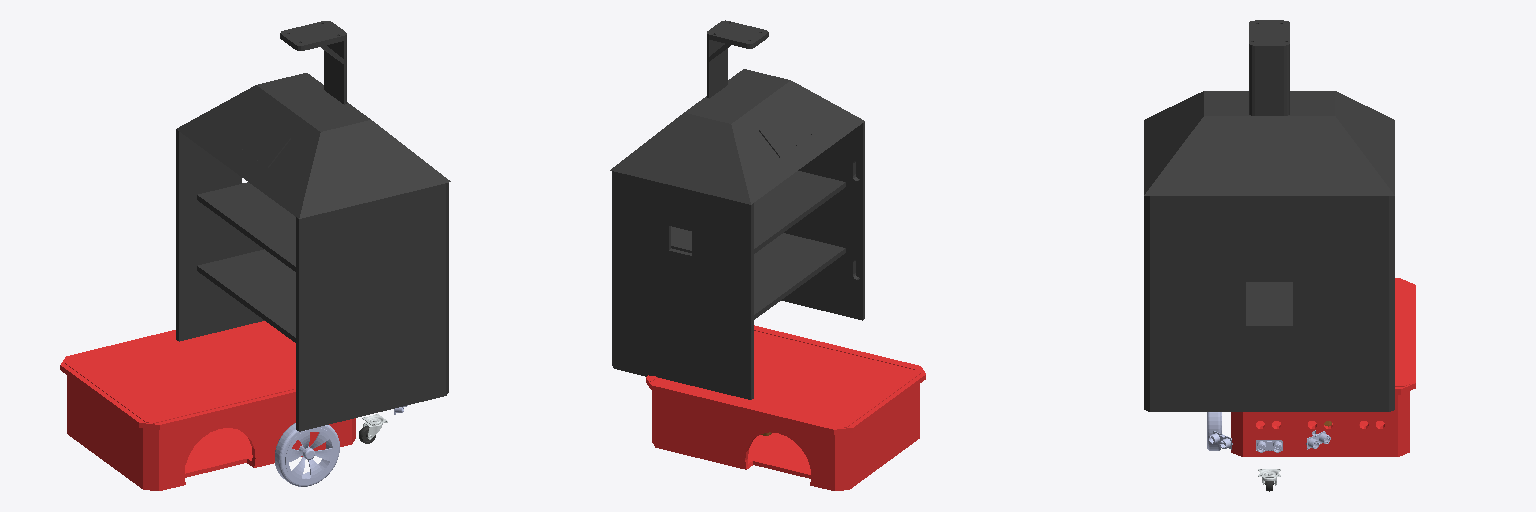
robot.urdf — motar_mini:
<?xml version="1.0" encoding="utf-8"?>
<!-- This URDF was automatically created by SolidWorks to URDF Exporter! Originally created by [author] ([email redacted]) 
     Commit Version: 1.5.1-0-g916b5db  Build Version: 1.5.7152.31018
     For more information, please see http://wiki.ros.org/sw_urdf_exporter -->
<robot name="motar_mini">

<!-- Base_link(Kasa) -->

  <link name="base_link">
    <inertial>
      <origin xyz="0.0011012 -5.6563E-08 0.10842" rpy="0 0 0" />
      <mass value="5" />
      <inertia ixx="0.0075955" ixy="1.9776E-09" ixz="0.00023235"
       iyy="0.012493" iyz="-4.394E-10" izz="0.014889" />
    </inertial>
    <visual>
      <origin xyz="0 0 0" rpy="0 0 0" />
      <geometry>
        <mesh filename="package://motar_mini/meshes/base_link.STL" />
      </geometry>
      <material name="">
        <color rgba="0.96863 0.25882 0.25882 1" />
      </material>
    </visual>
    <collision>
      <origin xyz="0 0 0" rpy="0 0 0" />
      <geometry>
        <mesh filename="package://motar_mini/meshes/base_link.STL" />
      </geometry>
    </collision>
  </link>

<!-- SWIWEL WHEEL -->

<!-- Swivel Wheel Base-->
  <link name="SWheelbase">
    <inertial>
      <origin xyz="2.7426E-09 -1.1481E-10 -0.0016836" rpy="0 0 0" />
      <mass  value="0.5" />
      <inertia
        ixx="1.4785E-07"
        ixy="-3.9067E-21"
        ixz="6.2429E-15"
        iyy="1.3208E-07"
        iyz="4.1764E-18"
        izz="2.6366E-07" />
    </inertial>
    <visual>
      <origin xyz="0 0 0" rpy="0 0 0" />
      <geometry>
        <mesh filename="package://motar_mini/meshes/SWheelbase.STL" />
      </geometry>
      <material name="">
        <color rgba="0.89804 0.92157 0.92941 1" />
      </material>
    </visual>
    <collision>
      <origin xyz="0 0 0" rpy="0 0 0" />
      <geometry>
        <mesh filename="package://motar_mini/meshes/SWheelbase.STL" />
      </geometry>
    </collision>
  </link>
  <joint  name="SWhBase" type="fixed">
    <origin xyz="0.272999999872566 -0.0849999999212055 0.039802668970508" rpy="0 0 0" />
    <parent link="base_link" />
    <child link="SWheelbase" />
    <axis xyz="0 0 0" />
  </joint>
<!-- Swivel Wheel Dir-->
  <link name="SWhDir">
    <inertial>
      <origin xyz="-0.0088807 0.00045181 -0.0021842" rpy="0 0 0" />
      <mass value="0.5" />
      <inertia
        ixx="2.928E-07"
        ixy="9.276E-09"
        ixz="-9.191E-08"
        iyy="2.9964E-07"
        iyz="1.1937E-08"
        izz="3.2424E-07" />
    </inertial>
    <visual>
      <origin xyz="0 0 0" rpy="0 0 0" />
      <geometry>
        <mesh filename="package://motar_mini/meshes/SWhDir.STL" />
      </geometry>
      <material name="">
        <color rgba="0.89804 0.92157 0.92941 1" />
      </material>
    </visual>
    <collision>
      <origin xyz="0 0 0" rpy="0 0 0" />
      <geometry>
        <mesh filename="package://motar_mini/meshes/SWhDir.STL" />
      </geometry>
    </collision>
  </link>
  <joint name="SWhD" type="continuous">
    <origin xyz="0.00221976872885976 0 -0.0104225951353673" rpy="0 0 0" />
    <parent link="SWheelbase" />
    <child link="SWhDir" />
    <axis xyz="0 0 -1" />
  </joint>
<!-- Swivel Wheel-->
  <link name="SWheel">
    <inertial>
      <origin xyz="1.2147E-06 1.96E-07 8.0438E-07" rpy="0 0 0" />
      <mass value="0.5" />
      <inertia ixx="4.3731E-07" ixy="-4.6068E-10" ixz="-4.0444E-11"
        iyy="7.3808E-07" iyz="-7.0587E-12" izz="4.3734E-07" />
    </inertial>
    <visual>
      <origin xyz="0 0 0" rpy="0 0 0" />
      <geometry>
        <mesh filename="package://motar_mini/meshes/SWheel.STL" />
      </geometry>
      <material name="">
        <color rgba="0.29412 0.29412 0.29412 1" />
      </material>
    </visual>
    <collision>
      <origin xyz="0 0 0" rpy="0 0 0" />
      <geometry>
        <mesh filename="package://motar_mini/meshes/SWheel.STL" />
      </geometry>
    </collision>
  </link>
  <joint name="SWh" type="continuous">
    <origin  xyz="-0.0177197511672673 -2.65387885129836E-05 -0.0136774048347897" rpy="0 0 0" />
    <parent link="SWhDir" />
    <child  link="SWheel" />
    <axis xyz="0.00149757402447565 -0.999998878635392 0" />
  </joint>

<!-- Left Wheel-->

  <link name="leftWheel">
    <inertial>
      <origin  xyz="-1.7347E-18 -0.0092827 5.5511E-17" rpy="0 0 0" />
      <mass value="1" />
      <inertia
        ixx="0.00016712"
        ixy="-3.0213E-21"
        ixz="1.3911E-17"
        iyy="0.00032266"
        iyz="-9.8863E-21"
        izz="0.00016712" />
    </inertial>
    <visual>
      <origin xyz="0 0 0" rpy="0 0 0" />
      <geometry>
        <mesh filename="package://motar_mini/meshes/leftWheel.STL" />
      </geometry>
      <material name="">
        <color rgba="0.63922 0.4 0.21176 1" />
      </material>
    </visual>
    <collision>
      <origin xyz="0 0 0" rpy="0 0 0" />
      <geometry>
        <mesh filename="package://motar_mini/meshes/leftWheel.STL" />
      </geometry>
    </collision>
  </link>
  <joint name="LWheel" type="continuous">
    <origin xyz="0.0858451267270673 0.0181457276792751 0.060002668970508" rpy="0 0 0" />
    <parent link="base_link" />
    <child link="leftWheel" />
    <axis xyz="0 1 0" />
  </joint>

<!-- Right Wheel-->

  <link name="rightWheel">
    <inertial>
      <origin xyz="1.0408E-17 0.0090244 0" rpy="0 0 0" />
      <mass value="1" />
      <inertia
        ixx="0.00016712"
        ixy="2.3086E-21"
        ixz="1.4729E-18"
        iyy="0.00032266"
        iyz="-1.8672E-21"
        izz="0.00016712" />
    </inertial>
    <visual>
      <origin xyz="0 0 0" rpy="0 0 0" />
      <geometry>
        <mesh filename="package://motar_mini/meshes/rightWheel.STL" />
      </geometry>
      <material name="">
        <color rgba="0.79216 0.81961 0.93333 1" />
      </material>
    </visual>
    <collision>
      <origin xyz="0 0 0" rpy="0 0 0" />
      <geometry>
        <mesh filename="package://motar_mini/meshes/rightWheel.STL" />
      </geometry>
    </collision>
  </link>
  <joint name="RWheel" type="continuous">
    <origin xyz="0.0858451267270673 -0.187145727679275 0.060002668970508" rpy="0 0 0" />
    <parent link="base_link" />
    <child link="rightWheel" />
    <axis xyz="0 1 0" />
  </joint>

<!-- Dolap-->

  <link name="Dolap">
    <inertial>
      <origin xyz="-0.0038285 0.0010421 0.23126" rpy="0 0 0" />
      <mass value="10" />
      <inertia
        ixx="0.04108"
        ixy="8.4741E-06"
        ixz="-0.00024734"
        iyy="0.051851"
        iyz="-0.0004415"
        izz="0.037286" />
    </inertial>
    <visual>
      <origin xyz="0 0 0" rpy="0 0 0" />
      <geometry>
        <mesh filename="package://motar_mini/meshes/Dolap.STL" />
      </geometry>
      <material name="">
        <color rgba="0.29804 0.29804 0.29804 1" />
      </material>
    </visual>
    <collision>
      <origin xyz="0 0 0" rpy="0 0 0" />
      <geometry>
        <mesh filename="package://motar_mini/meshes/Dolap.STL" />
      </geometry>
    </collision>
  </link>
  <joint name="Dolap" type="fixed">
    <origin xyz="0.152 -0.085 0.166002668970508" rpy="0 0 0" />
    <parent link="base_link" />
    <child link="Dolap" />
    <axis xyz="0 0 0" />
  </joint>
  
<!-- Sonar Left-->

  <link name="SL">
    <inertial>
      <origin xyz="-0.11671 0.11418 -4.9387E-05" rpy="0 0 0" />
      <mass value="2" />
      <inertia
        ixx="1.74E-07"
        ixy="-3.9565E-10"
        ixz="-1.6556E-09"
        iyy="9.3681E-07"
        iyz="2.8113E-09"
        izz="8.8636E-07" />
    </inertial>
    <visual>
      <origin xyz="0 0 0" rpy="0 0 0" />
      <geometry>
        <mesh filename="package://motar_mini/meshes/SL.STL" />
      </geometry>
      <material name="">
        <color rgba="0.79216 0.81961 0.93333 1" />
      </material>
    </visual>
    <collision>
      <origin xyz="0 0 0" rpy="0 0 0" />
      <geometry>
        <mesh filename="package://motar_mini/meshes/SL.STL" />
      </geometry>
    </collision>
  </link>
  <joint name="SL" type="fixed">
    <origin xyz="0.276499221592938 -0.167500778407062 0.101002668970508" rpy="0 0 -0.785398163397448" />
    <parent link="base_link" />
    <child link="SL" />
    <axis xyz="0 0 0" />
  </joint>

<!-- Sonar Front-->

  <link name="SF">
    <inertial>
      <origin xyz="-0.0024954 -1.8887E-05 4.9385E-05" rpy="0 0 0" />
      <mass value="2" />
      <inertia
        ixx="9.3681E-07"
        ixy="-3.9566E-10"
        ixz="-2.8114E-09"
        iyy="1.74E-07"
        iyz="1.6556E-09"
        izz="8.8636E-07" />
    </inertial>
    <visual>
      <origin xyz="0 0 0" rpy="0 0 0" />
      <geometry>
        <mesh filename="package://motar_mini/meshes/SF.STL" />
      </geometry>
      <material name="">
        <color rgba="0.79216 0.81961 0.93333 1" />
      </material>
    </visual>
    <collision>
      <origin xyz="0 0 0" rpy="0 0 0" />
      <geometry>
        <mesh filename="package://motar_mini/meshes/SF.STL" />
      </geometry>
    </collision>
  </link>
  <joint name="SF" type="fixed">
    <origin xyz="0.299 -0.085 0.101002668970508" rpy="0 0 0" />
    <parent link="base_link" />
    <child link="SF" />
    <axis xyz="0 0 0" />
  </joint>

<!-- Sonar Right-->

  <link name="SR">
    <inertial>
      <origin xyz="-0.11667 -0.11418 4.9387E-05" rpy="0 0 0" />
      <mass value="2" />
      <inertia
        ixx="1.74E-07"
        ixy="3.9565E-10"
        ixz="1.6556E-09"
        iyy="9.3681E-07"
        iyz="2.8113E-09"
        izz="8.8636E-07" />
    </inertial>
    <visual>
      <origin xyz="0 0 0" rpy="0 0 0" />
      <geometry>
        <mesh filename="package://motar_mini/meshes/SR.STL" />
      </geometry>
      <material name="">
        <color rgba="0.79216 0.81961 0.93333 1" />
      </material>
    </visual>
    <collision>
      <origin xyz="0 0 0" rpy="0 0 0" />
      <geometry>
        <mesh filename="package://motar_mini/meshes/SR.STL" />
      </geometry>
    </collision>
  </link>
  <joint name="SR" type="fixed">
    <origin xyz="0.2765 -0.0025008 0.101" rpy="0 0 0.7854" />
    <parent link="base_link" />
    <child link="SR" />
    <axis xyz="0 0 0" />
  </joint>

<!-- Ultrasonic Sonar Sensors Gazebo Ref. -->
	<gazebo reference="SL">
		<material>Gazebo/Green</material>
		<sensor type="ray" name="SL">
		  <pose>0 0 0 0 0 0</pose>
		  <update_rate>5</update_rate>
		  <ray>
		    <scan>
		      <horizontal>
		        <samples>5</samples>
		        <resolution>1.0</resolution>
		        <min_angle>-0.3</min_angle>
		        <max_angle>0.3</max_angle>
		      </horizontal>
		      <vertical>
		        <samples>5</samples>
		        <resolution>1</resolution>
		        <min_angle>-0.3</min_angle>
		        <max_angle>0.3</max_angle>
		      </vertical>
		    </scan>
		    <range>
		      <min>0.01</min>
		      <max>0.9</max>
		      <resolution>0.01</resolution>
		    </range>
		  </ray>
		  <plugin filename="libgazebo_ros_range.so" name="gazebo_ros_range">
		    <gaussianNoise>0.005</gaussianNoise>
		    <alwaysOn>true</alwaysOn>
		    <updateRate>5</updateRate>
		    <topicName>SL</topicName>
		    <frameName>SL</frameName>
		    <fov>0.7</fov>
		    <radiation>ultrasound</radiation>
		  </plugin>
		</sensor>
	</gazebo>

	<gazebo reference="SF">
		<material>Gazebo/Green</material>
		<sensor type="ray" name="SF">
		  <pose>0 0 0 0 0 0</pose>
		  <update_rate>5</update_rate>
		  <ray>
		    <scan>
		      <horizontal>
		        <samples>5</samples>
		        <resolution>1.0</resolution>
		        <min_angle>-0.3</min_angle>
		        <max_angle>0.3</max_angle>
		      </horizontal>
		      <vertical>
		        <samples>5</samples>
		        <resolution>1</resolution>
		        <min_angle>-0.3</min_angle>
		        <max_angle>0.3</max_angle>
		      </vertical>
		    </scan>
		    <range>
		      <min>0.01</min>
		      <max>0.9</max>
		      <resolution>0.01</resolution>
		    </range>
		  </ray>
		  <plugin filename="libgazebo_ros_range.so" name="gazebo_ros_range">
		    <gaussianNoise>0.005</gaussianNoise>
		    <alwaysOn>true</alwaysOn>
		    <updateRate>5</updateRate>
		    <topicName>SF</topicName>
		    <frameName>SF</frameName>
		    <fov>0.7</fov>
		    <radiation>ultrasound</radiation>
		  </plugin>
		</sensor>
	</gazebo>

	<gazebo reference="SR">
		<material>Gazebo/Green</material>
		<sensor type="ray" name="SR">
		  <pose>0 0 0 0 0 0</pose>
		  <update_rate>5</update_rate>
		  <ray>
		    <scan>
		      <horizontal>
		        <samples>5</samples>
		        <resolution>1.0</resolution>
		        <min_angle>-0.3</min_angle>
		        <max_angle>0.3</max_angle>
		      </horizontal>
		      <vertical>
		        <samples>5</samples>
		        <resolution>1</resolution>
		        <min_angle>-0.3</min_angle>
		        <max_angle>0.3</max_angle>
		      </vertical>
		    </scan>
		    <range>
		      <min>0.01</min>
		      <max>0.9</max>
		      <resolution>0.01</resolution>
		    </range>
		  </ray>
		  <plugin filename="libgazebo_ros_range.so" name="gazebo_ros_range">
		    <gaussianNoise>0.005</gaussianNoise>
		    <alwaysOn>true</alwaysOn>
		    <updateRate>5</updateRate>
		    <topicName>SR</topicName>
		    <frameName>SR</frameName>
		    <fov>0.7</fov>
		    <radiation>ultrasound</radiation>
		  </plugin>
		</sensor>
	</gazebo>

<!-- Lidar Sensor -->

<link name="hokuyo_link">
    <inertial>
      <origin xyz="9.1926E-05 0.0067665 -0.0073819" rpy="0 0 0" />
      <mass value="0.5" />
      <inertia
        ixx="0.0009607"
        ixy="8.0198E-07"
        ixz="3.0916E-06"
        iyy="0.00061492"
        iyz="0.00015824"
        izz="0.0010982" />
    </inertial>
    <visual>
      <origin xyz="0 0 0" rpy="0 0 0" />
      <geometry>
        <mesh filename="package://motar_mini/meshes/lidar.STL" />
      </geometry>
      <material name="">
        <color rgba="0.79216 0.81961 0.93333 1" />
      </material>
    </visual>
    <collision>
      <origin xyz="0 0 0" rpy="0 0 0" />
      <geometry>
        <mesh filename="package://motar_mini/meshes/lidar.STL" />
      </geometry>
    </collision>
  </link>
  <joint name="hokuyo_joint" type="fixed">
    <origin xyz="0.145705213844625 -0.0898024549047488 0.618652668970508" rpy="0 0 0" />
    <parent link="base_link" />
    <child link="hokuyo_link" />
    <axis xyz="0 0 0" />
  </joint>
<!--
  <link
    name="hokuyo_link">
    <inertial>
      <origin xyz="-0.0074835 0.010668 9.1926E-05" rpy="0 0 0" />
      <mass value="0.5" />
      <inertia
        ixx="0.00061492"
        ixy="0.00015824"
        ixz="8.0198E-07"
        iyy="0.0010982"
        iyz="3.0916E-06"
        izz="0.0009607" />
    </inertial>
    <visual>
      <origin xyz="0 0 0" rpy="0 0 0" />
      <geometry>
        <mesh filename="package://motar_mini/meshes/Lidar.dae" />
      </geometry>
      <material name="">
        <color rgba="0.79216 0.81961 0.93333 1" />
      </material>
    </visual>
    <collision>
      <origin xyz="0 0 0" rpy="0 0 0" />
      <geometry>
        <mesh filename="package://motar_mini/meshes/Lidar.dae" />
      </geometry>
    </collision>
  </link>
  <joint name="hokuyo_joint" type="fixed">
    <origin xyz="0 0.00944754509525184 0.8256" rpy="0 0 0" />
    <parent
      link="base_link" />
    <child link="hokuyo_link" />
    <axis xyz="0 0 0" />
  </joint>
-->
<!-- hokuyo Sensor Plugin-->

 	<gazebo reference="hokuyo_link">
		<sensor type="ray" name="head_hokuyo_sensor">
		<pose>0 0 0 1 0 0</pose>
		<visualize>false</visualize>
		<update_rate>40</update_rate>
		<ray>
		<scan>
			<horizontal>
				<samples>720</samples>
				<resolution>1</resolution>
				<min_angle>-3.1416</min_angle>
				<max_angle>3.1416</max_angle>
			</horizontal>
		</scan>
		<range>
			<min>0.10</min>
			<max>10.0</max>
			<resolution>0.01</resolution>
		</range>
		<noise>
			<type>gaussian</type>
			<mean>0.0</mean>
			<stddev>0.01</stddev>
		</noise>
		</ray>

	<plugin name="gazebo_ros_head_hokuyo_controller" filename="libgazebo_ros_laser.so">
			<topicName>/motar_mini/laser/scan</topicName>
			<frameName>hokuyo_link</frameName>
		   </plugin>
		</sensor>
	</gazebo>

<!-- Diff Drive Control Plugin -->

  <gazebo>
     <plugin name="differential_drive_controller" filename="libgazebo_ros_diff_drive.so">
       <alwaysOn>true</alwaysOn>
       <legacyMode>false</legacyMode>
       <updateRate>40</updateRate>
       <leftJoint>LWheel</leftJoint>
       <rightJoint>RWheel</rightJoint>
       <wheelSeparation>0.42</wheelSeparation>
       <wheelDiameter>0.12</wheelDiameter>
       <torque>20</torque>
       <commandTopic>cmd_vel</commandTopic>
       <odometryTopic>odom</odometryTopic>
       <odometryFrame>odom</odometryFrame>
       <robotBaseFrame>base_link</robotBaseFrame>
       <robotNamespace>/</robotNamespace>
     </plugin>
  </gazebo> 
<!-- Planar Move Plugin ->
  <gazebo>
     <plugin name="base_controller" filename="libgazebo_ros_planar_move.so">
            <commandTopic>cmd_vel</commandTopic>
            <odometryTopic>odom</odometryTopic>
            <odometryFrame>odom</odometryFrame>
            <odometryRate>100</odometryRate>
            <robotBaseFrame>base_link</robotBaseFrame>
     </plugin>
  </gazebo>
-->

<!-- Color Settings For Gazebo-->
<gazebo reference="base_link">
	<material>Gazebo/DarkGrey</material>
  </gazebo>
  <gazebo reference="Dolap">
	<material>Gazebo/DarkGrey</material>
  </gazebo>
  <gazebo reference="hokuyo_link">
	<material>Gazebo/Blue</material>
  </gazebo>
  <gazebo reference="leftWheel">
	<material>Gazebo/Yellow</material>
  </gazebo>
  <gazebo reference="rightWheel">
	<material>Gazebo/Yellow</material>
  </gazebo>
  <gazebo reference="SWheelbase">
	<material>Gazebo/Yellow</material>
  </gazebo>
  <gazebo reference="SWheel">
	<material>Gazebo/Yellow</material>
  </gazebo>
  <gazebo reference="SWhDir">
	<material>Gazebo/Yellow</material>
  </gazebo>
  
</robot>

--- What the picture shows (computed from the rendered views, not written in the file) ---
3 views of the same robot in one strip: view 1: azimuth 30°, elevation 25°; view 2: azimuth 150°, elevation 25°; view 3: azimuth 270°, elevation 25° (orthographic).
Robot: motar_mini — 11 links, 10 joints (4 continuous, 6 fixed); root link base_link; default pose: every joint at zero.
Visible links, largest first — view 1: Dolap, base_link, rightWheel; view 2: Dolap, base_link; view 3: Dolap, base_link.
Boxes of the visible links, box(x1,y1,x2,y2) form: Dolap: box(176, 21, 450, 431); base_link: box(60, 321, 355, 490); rightWheel: box(275, 423, 339, 486); Dolap: box(610, 20, 864, 399); base_link: box(646, 325, 925, 490); Dolap: box(1144, 20, 1394, 411); base_link: box(1231, 278, 1415, 456).
Bounding box of the posed robot: 0.5262 × 0.455 × 0.796 m (x, y, z).
Meshes: 11 distinct files referenced, 11 mesh visuals loaded (11 binary STL).
